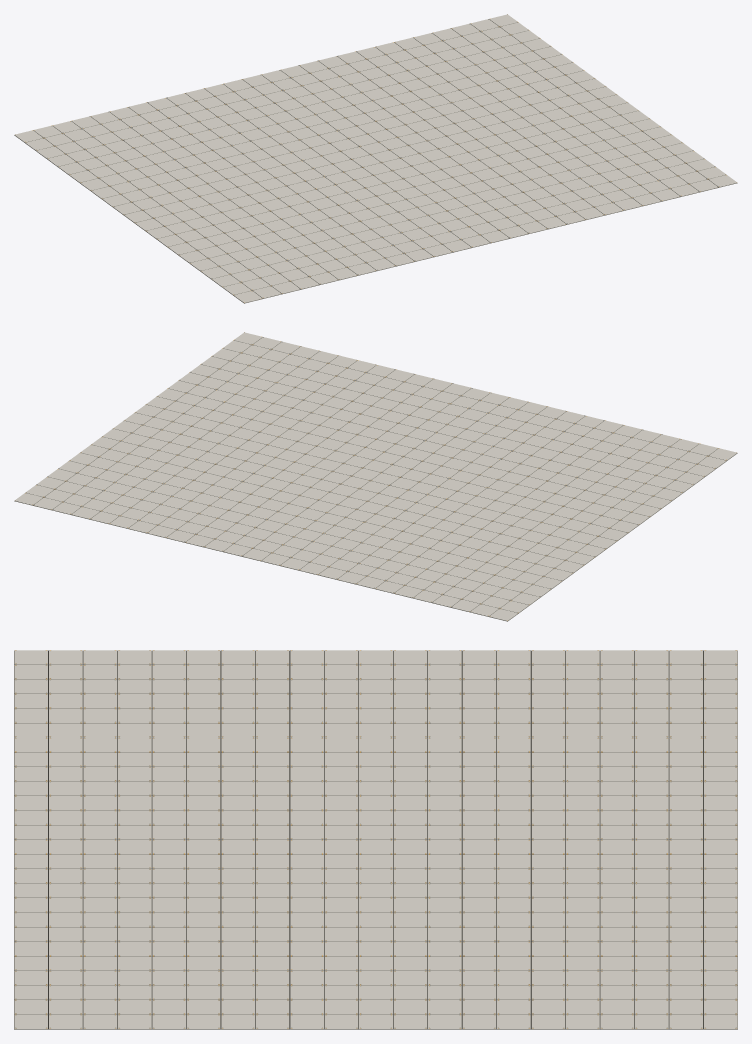
The model's file is Floor_Environment 1.FBX.
The picture shows the model from 3 angles, top to bottom: view 1: azimuth 30°, elevation 25°; view 2: azimuth 150°, elevation 25°; view 3: azimuth 270°, elevation 25°; orthographic projection. The views are drawn at different scales.
Parts seen in each view (by area): view 1: Floor; view 2: Floor; view 3: Floor.
Part boxes in pixels (x1,y1,x2,y2): Floor: [14, 14, 737, 303]; Floor: [14, 332, 737, 621]; Floor: [14, 650, 737, 1029].
Size of the model in its own units: 5200 by 5.77 by 4200.
